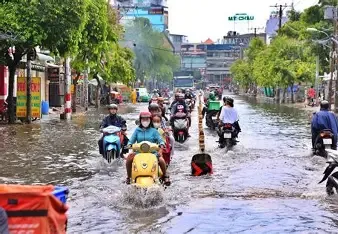ROAD_FLOODING: (3, 95, 335, 234)
